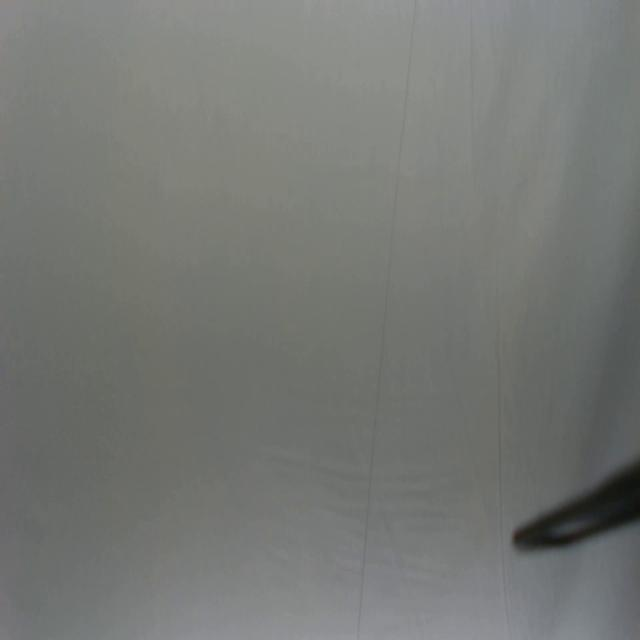crease: (357, 1, 419, 640), (493, 274, 513, 640), (467, 0, 479, 192)
